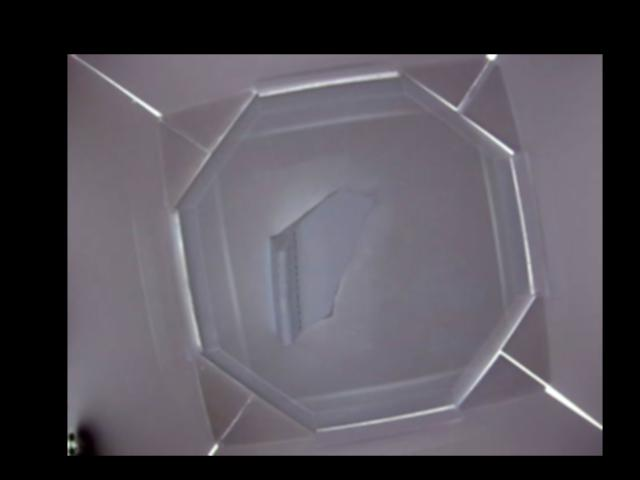China: (268, 188, 371, 345)
